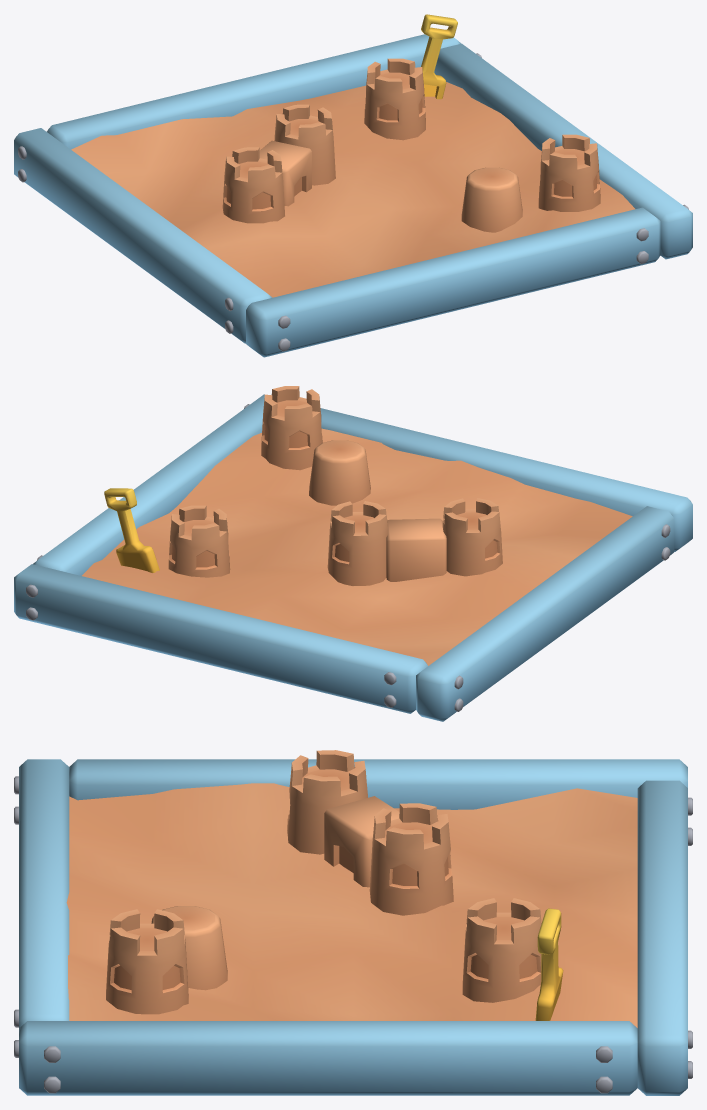
Rendered from sandbox_square_decorated.glb.
3 views of the same model, one above another, from view 1: azimuth 30°, elevation 25°; view 2: azimuth 150°, elevation 25°; view 3: azimuth 270°, elevation 25° (orthographic). The views are drawn at different scales.
Visible parts, largest first — view 1: sandbox_square_decorated; view 2: sandbox_square_decorated; view 3: sandbox_square_decorated.
Boxes of the visible parts, x1,y1,x2,y2 form: sandbox_square_decorated: (14, 14, 692, 357); sandbox_square_decorated: (14, 386, 692, 721); sandbox_square_decorated: (14, 750, 692, 1095).
Bounding box in the file's own units: 4.06 × 0.9622 × 4.06.
1 material, 1 textured.
